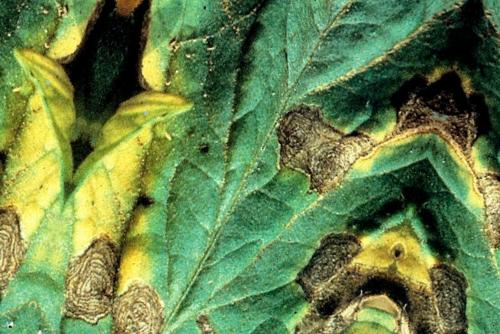Tomato Early blight leaf: (17, 0, 479, 334)
